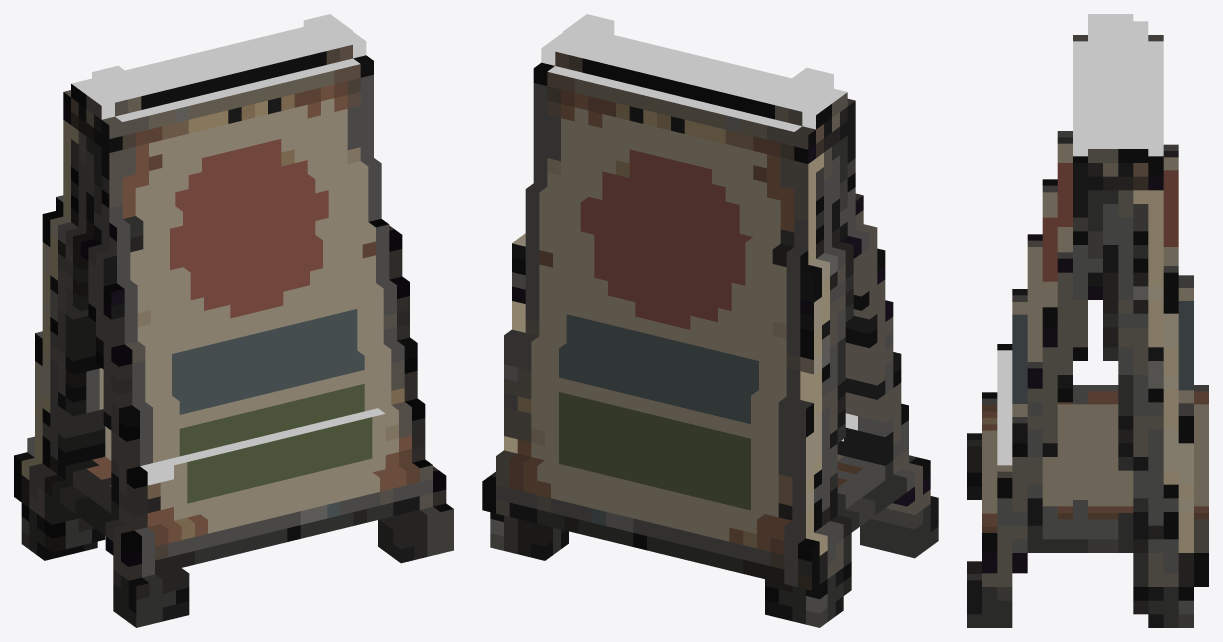
Rendered from city_sign_aframe.glb.
3 views of the same model, side by side, from view 1: azimuth 30°, elevation 25°; view 2: azimuth 150°, elevation 25°; view 3: azimuth 270°, elevation 25° (orthographic). The views are drawn at different scales.
Parts seen in each view (by area): view 1: city_sign_aframe; view 2: city_sign_aframe; view 3: city_sign_aframe.
Boxes of the visible parts, bbox=[...] form: city_sign_aframe: bbox=[14, 14, 453, 627]; city_sign_aframe: bbox=[482, 14, 938, 627]; city_sign_aframe: bbox=[967, 14, 1208, 627].
Size of the model in its own units: 0.75 by 1.09 by 0.5.
